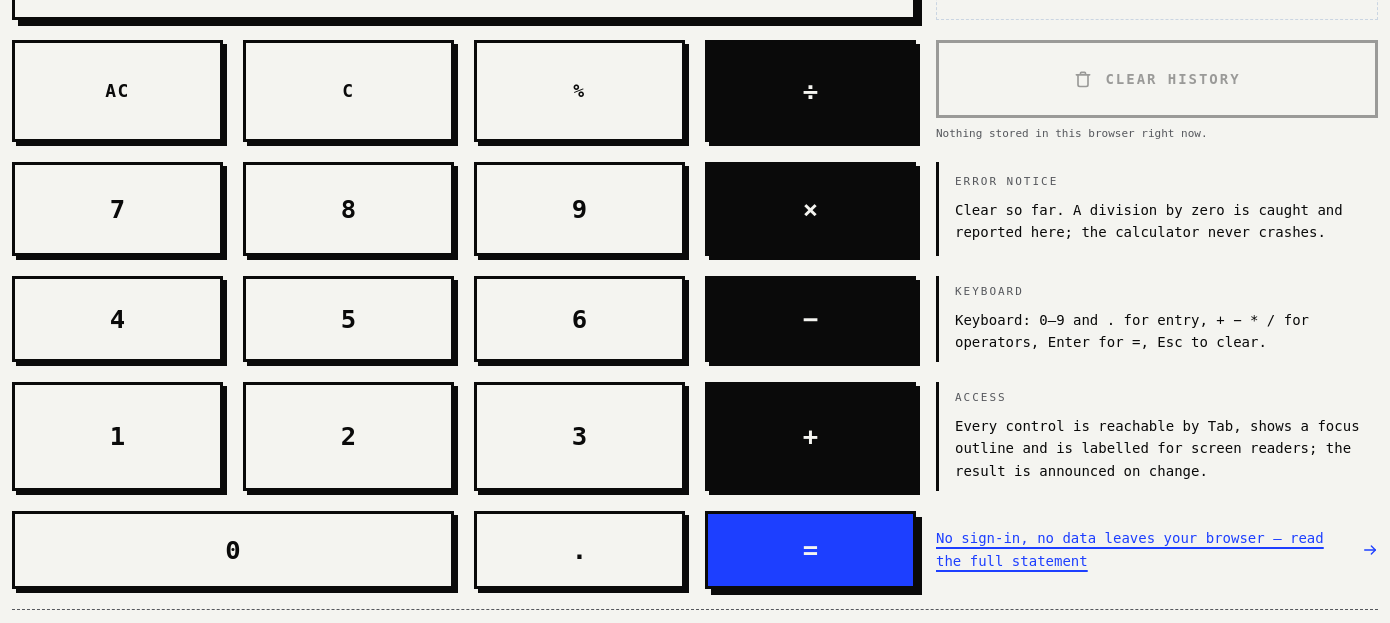
Test: Calculator screen › [AC-013] percentage key computes a percentage of the current entry
This screenshot has width=1390, height=623.
(page scrolled)
Step 1. Click the button "5" → (348, 319), box 243,276 -> 454,362
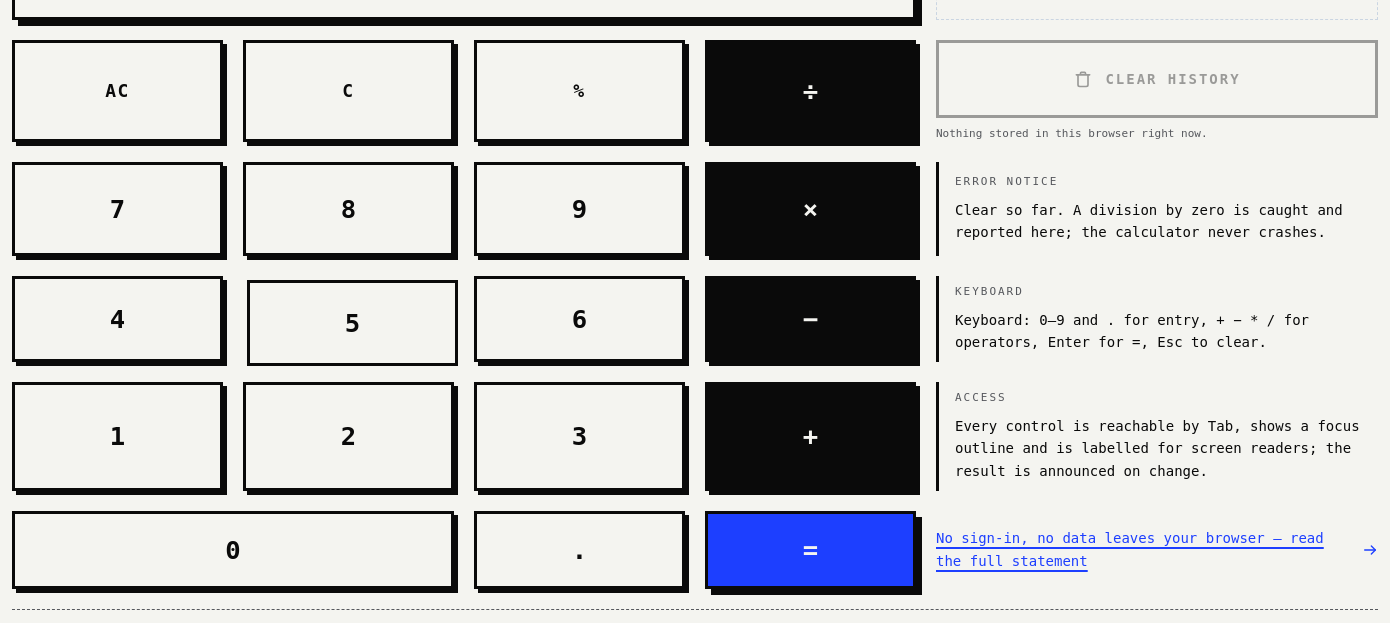
Step 2. Click the button "0" → (233, 550), box 12,511 -> 454,589
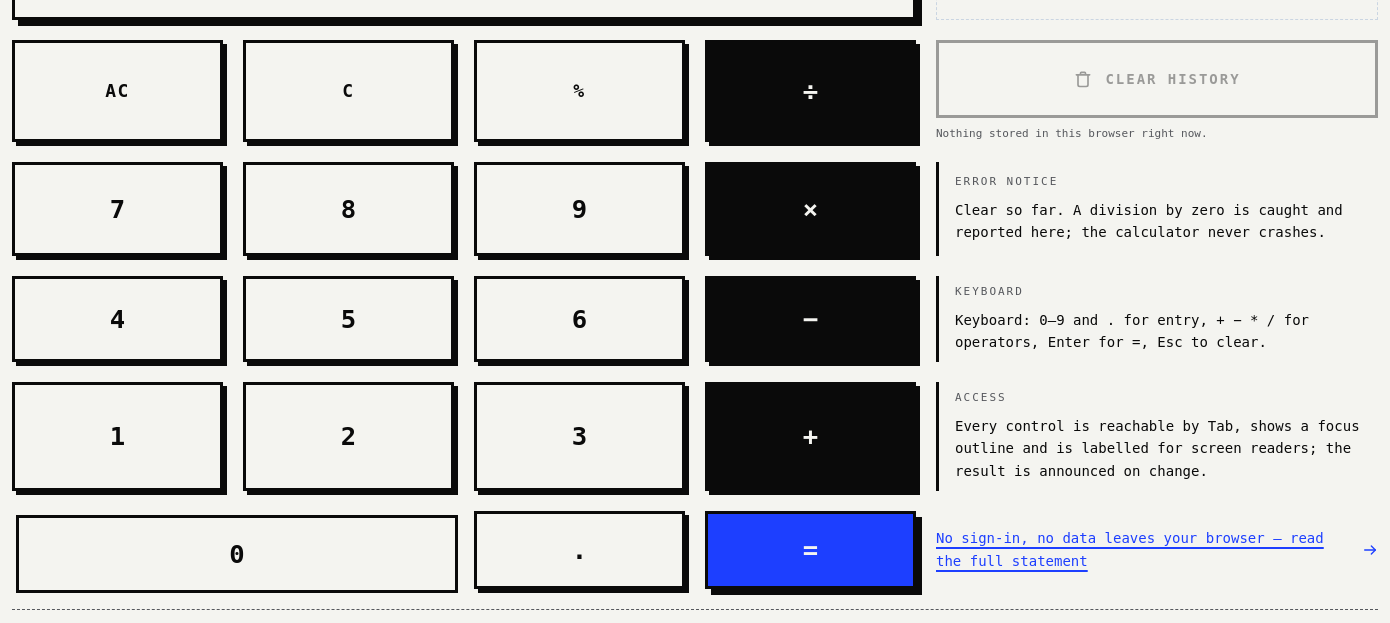
Step 3. Click the button "%" → (580, 91), box 474,40 -> 685,142
(page scrolled)
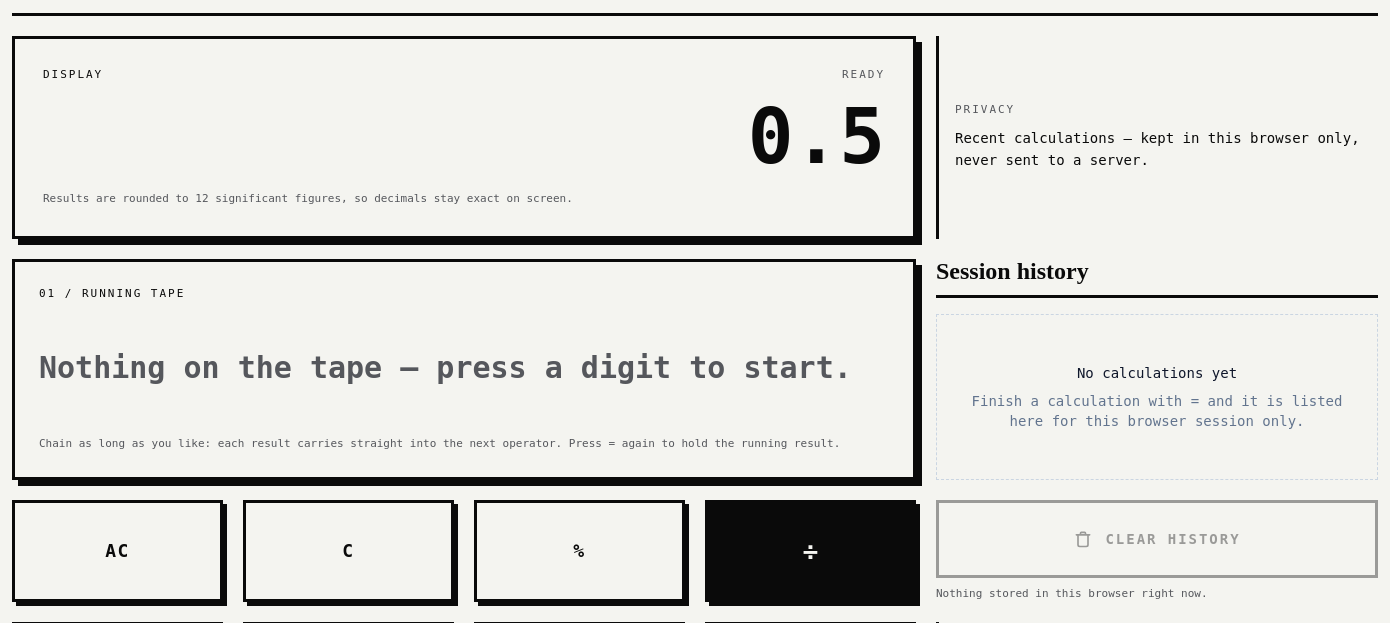
Result: the text "0.5" is shown at 748,92 -> 885,181
